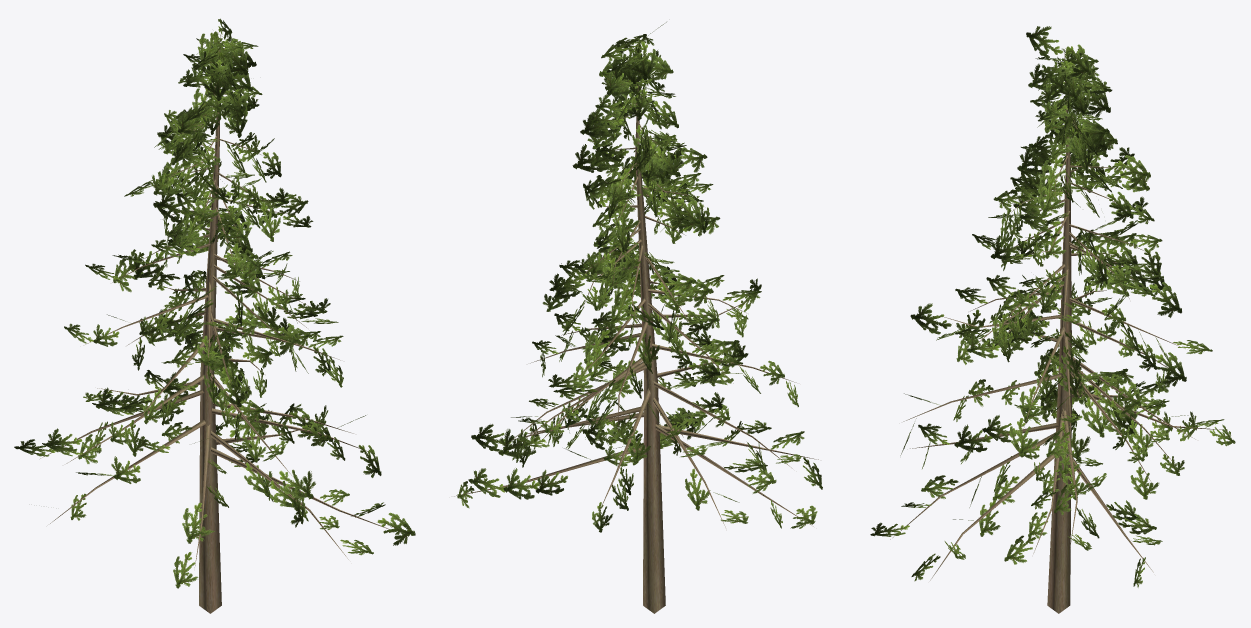
Rendered from ez-pine-01-far.glb.
3 renders of one model, left to right at view 1: azimuth 30°, elevation 25°; view 2: azimuth 150°, elevation 25°; view 3: azimuth 270°, elevation 25°, orthographic.
Visible parts, largest first — view 1: leaves, branches; view 2: leaves, branches; view 3: leaves, branches.
Boxes of the visible parts, bbox=[...] form: leaves: bbox=[14, 18, 415, 588]; branches: bbox=[40, 34, 399, 613]; leaves: bbox=[457, 22, 822, 532]; branches: bbox=[454, 42, 818, 613]; leaves: bbox=[870, 26, 1235, 587]; branches: bbox=[890, 50, 1226, 613].
Bounding box in the file's own units: 32.51 × 51.6 × 29.84.
2 materials, 2 textured.
